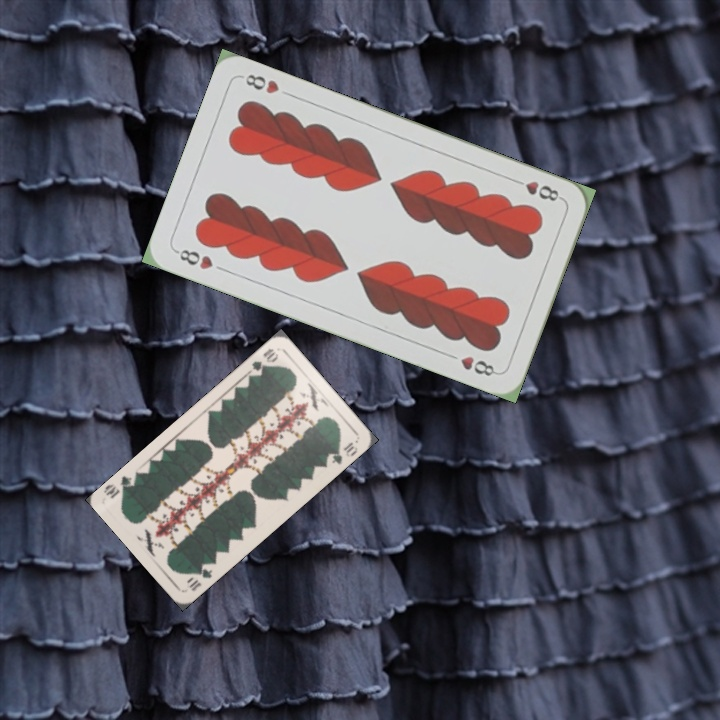G10: (244, 344, 281, 379), (185, 559, 215, 594)
H8: (508, 175, 565, 204), (171, 245, 216, 272)
